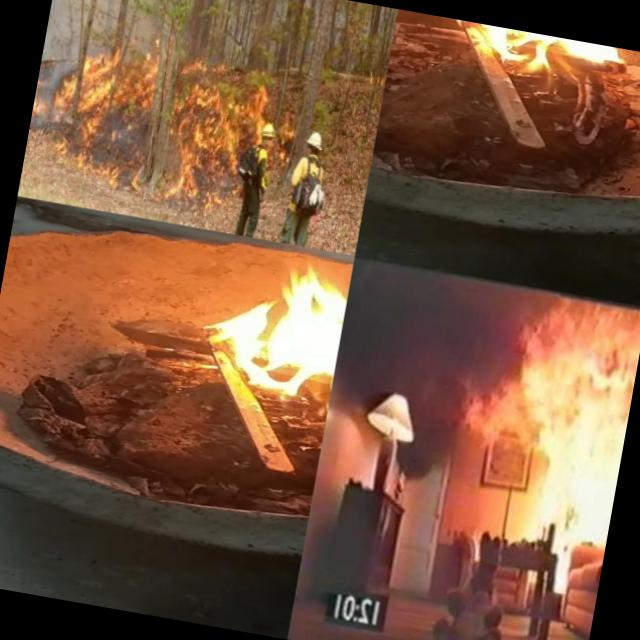fire: (21, 30, 306, 221), (483, 293, 640, 597), (192, 247, 352, 426), (436, 17, 640, 99)
